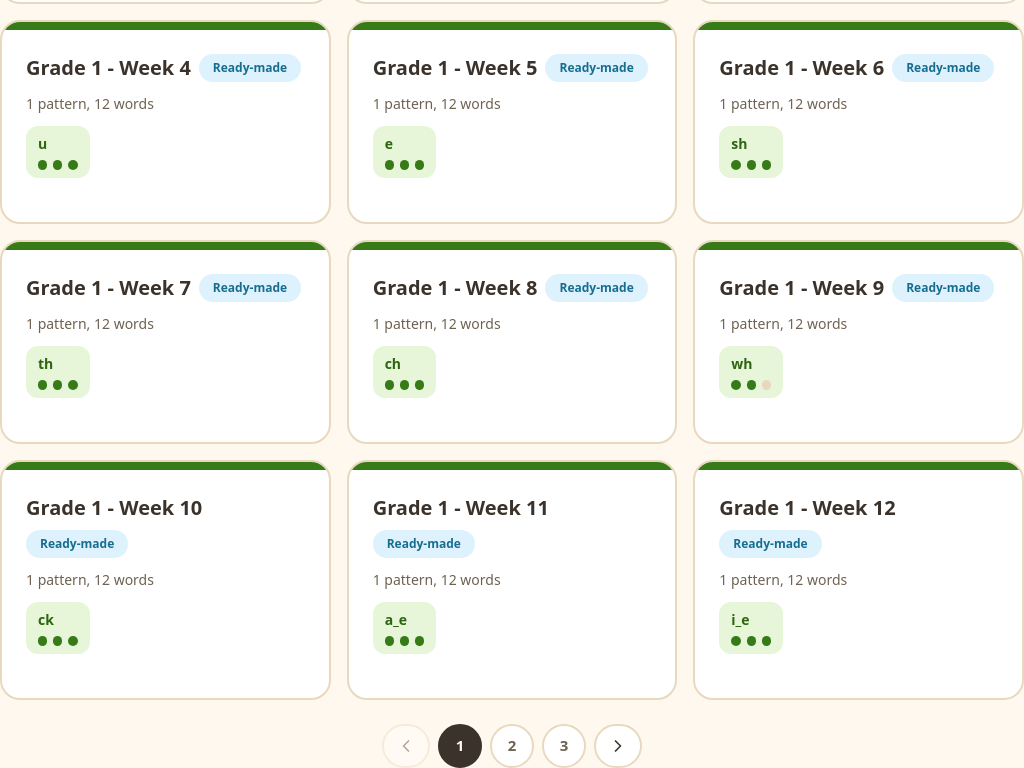
it: PrebuiltLibrarySection › paginates grade weeks at 12 per page (issue #481)
(page scrolled)
Expected: the button named "Previous page" is disabled, left=382, top=724, right=430, bottom=767
Note: Page 2: weeks 13-24.
Click the button named "Go to page 2": (512, 746) left=490, top=724, right=534, bottom=767
(page scrolled)
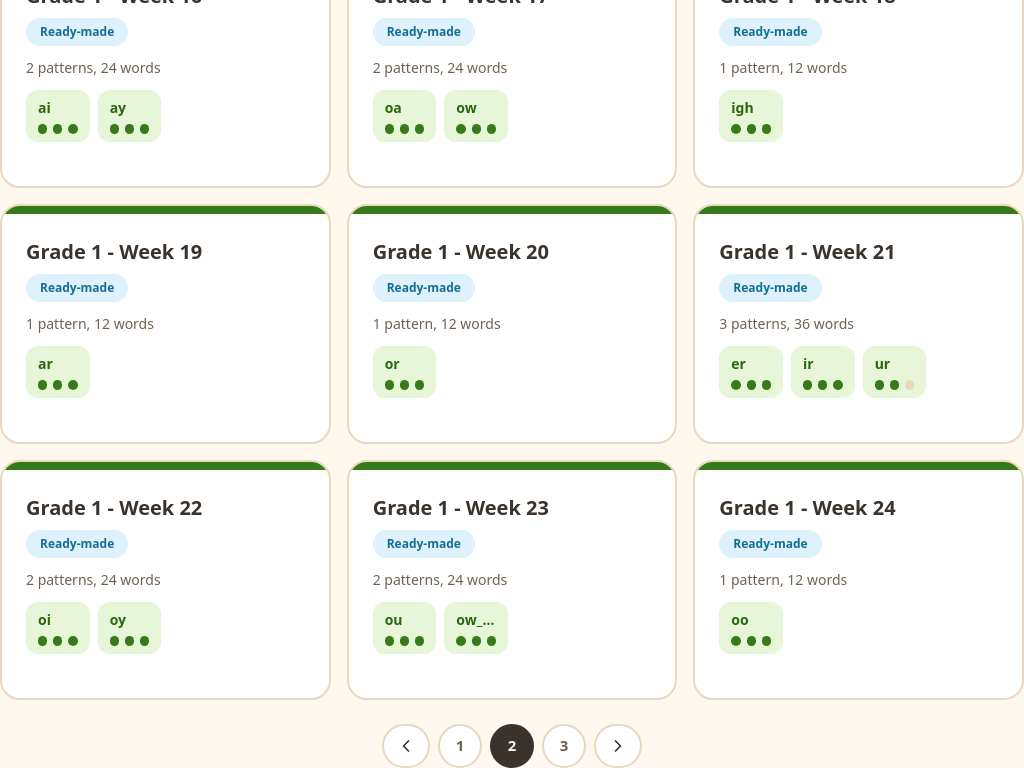
Expected: the button named "Go to page 2" is marked as current, left=490, top=724, right=534, bottom=767
Click the button named "Next page": (618, 746) left=594, top=724, right=642, bottom=767
(page scrolled)
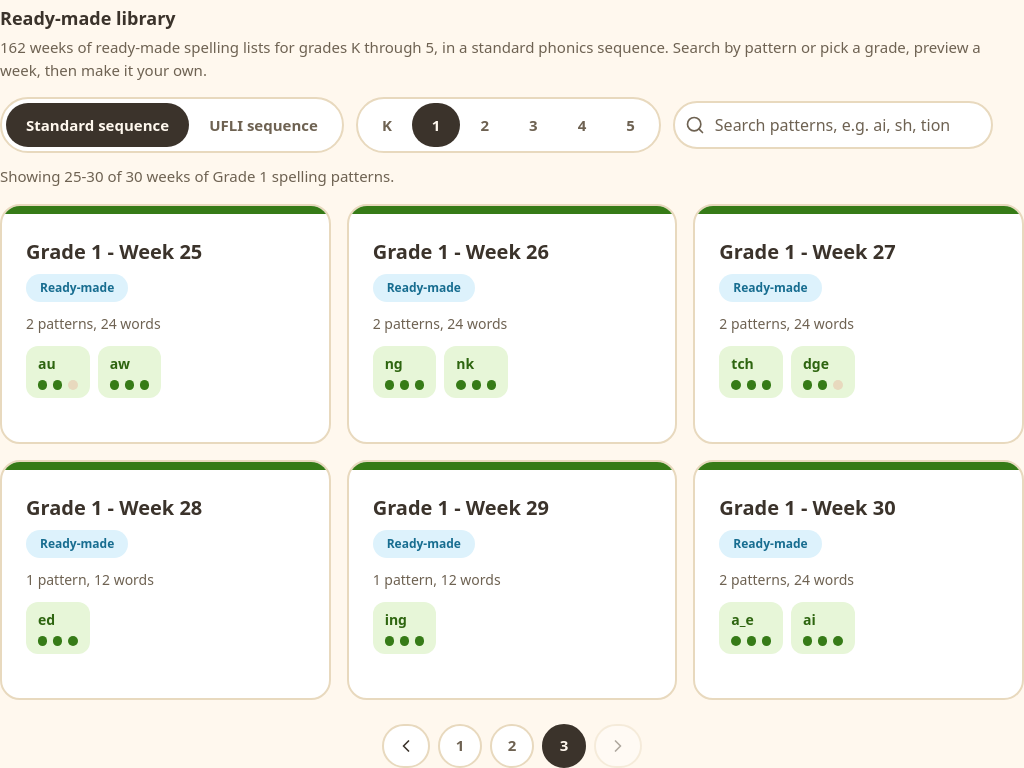
Expected: the text "Showing 25-30 of 30 weeks of Grade 1 spelling patterns." is shown, left=0, top=166, right=394, bottom=186
Expected: the number of links named "Preview:" is 6, left=2, top=206, right=329, bottom=442; left=349, top=206, right=675, bottom=442; left=695, top=206, right=1022, bottom=442; left=2, top=462, right=329, bottom=698; left=349, top=462, right=675, bottom=698; left=695, top=462, right=1022, bottom=698
Expected: the button named "Next page" is disabled, left=594, top=724, right=642, bottom=767
Note: Previous button walks back.
Click the button named "Previous page": (406, 746) left=382, top=724, right=430, bottom=767
(page scrolled)
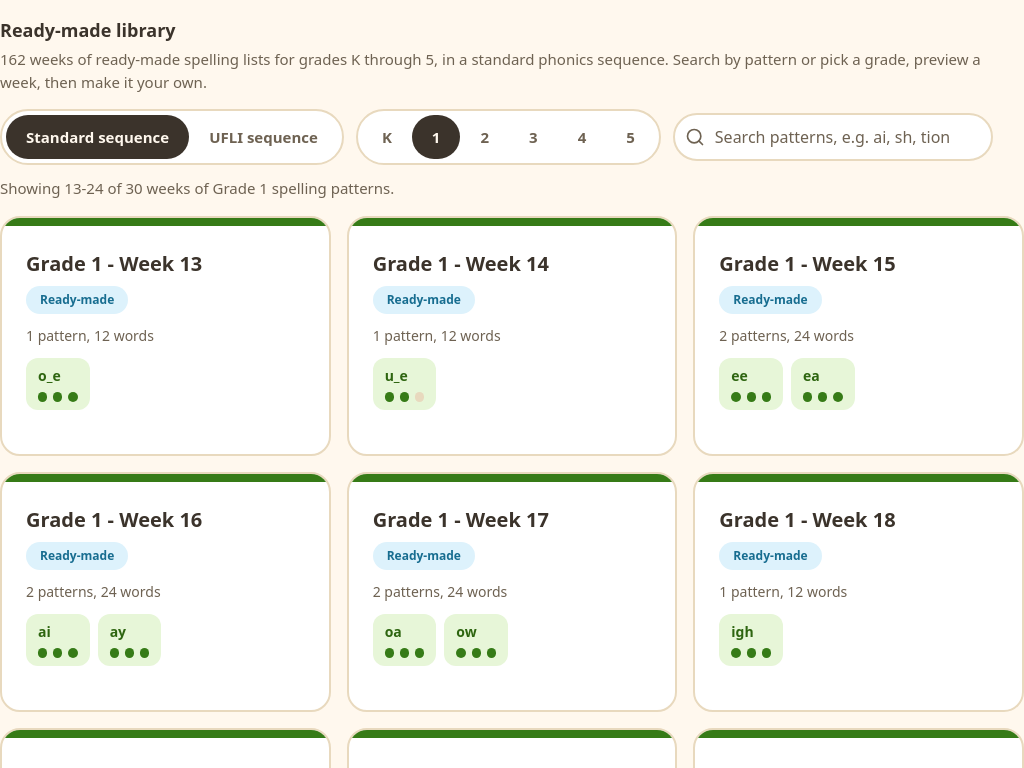
Expected: the text "Showing 13-24 of 30 weeks of Grade 1 spelling patterns." is shown, left=0, top=178, right=394, bottom=198
